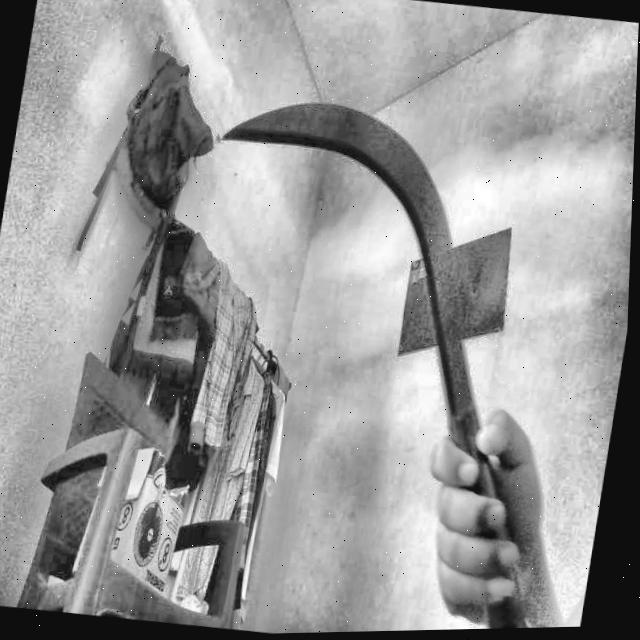celurit: (197, 78, 542, 629)
